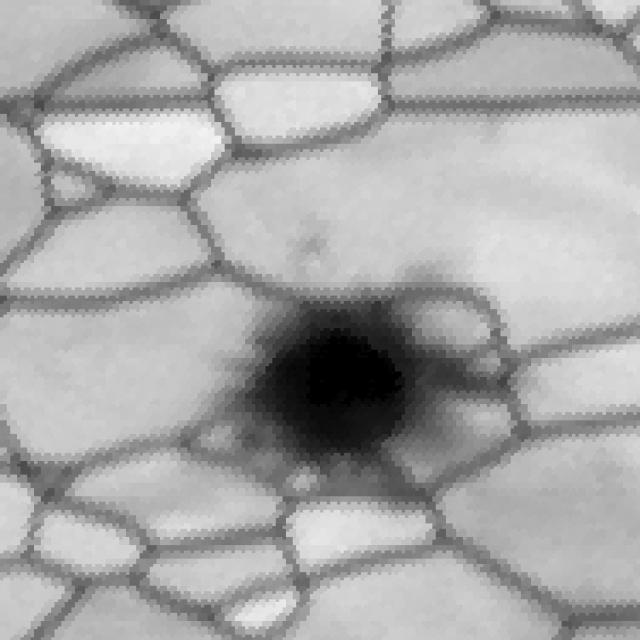good_void: (166, 239, 548, 510)
